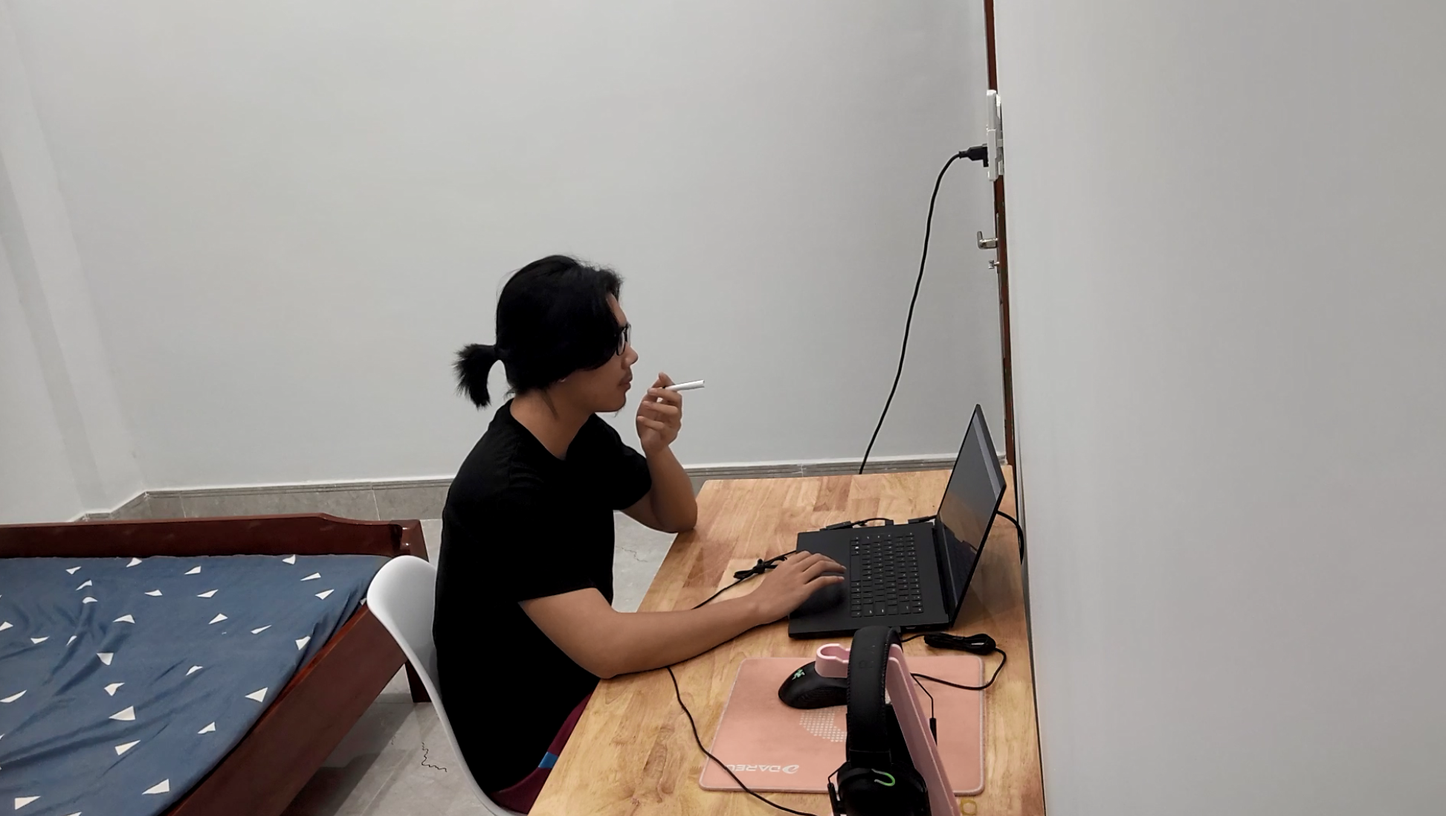cigarette: (653, 371, 710, 402)
person: (415, 239, 743, 816)
